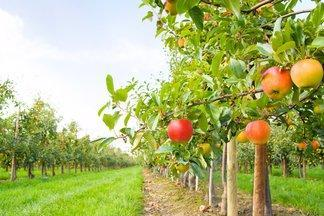apple: (290, 58, 324, 90), (261, 65, 292, 99), (166, 118, 193, 143)
